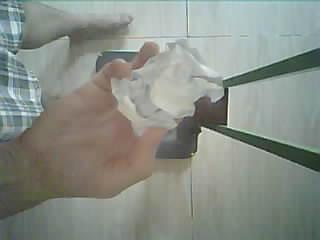paper: (112, 40, 224, 135)
